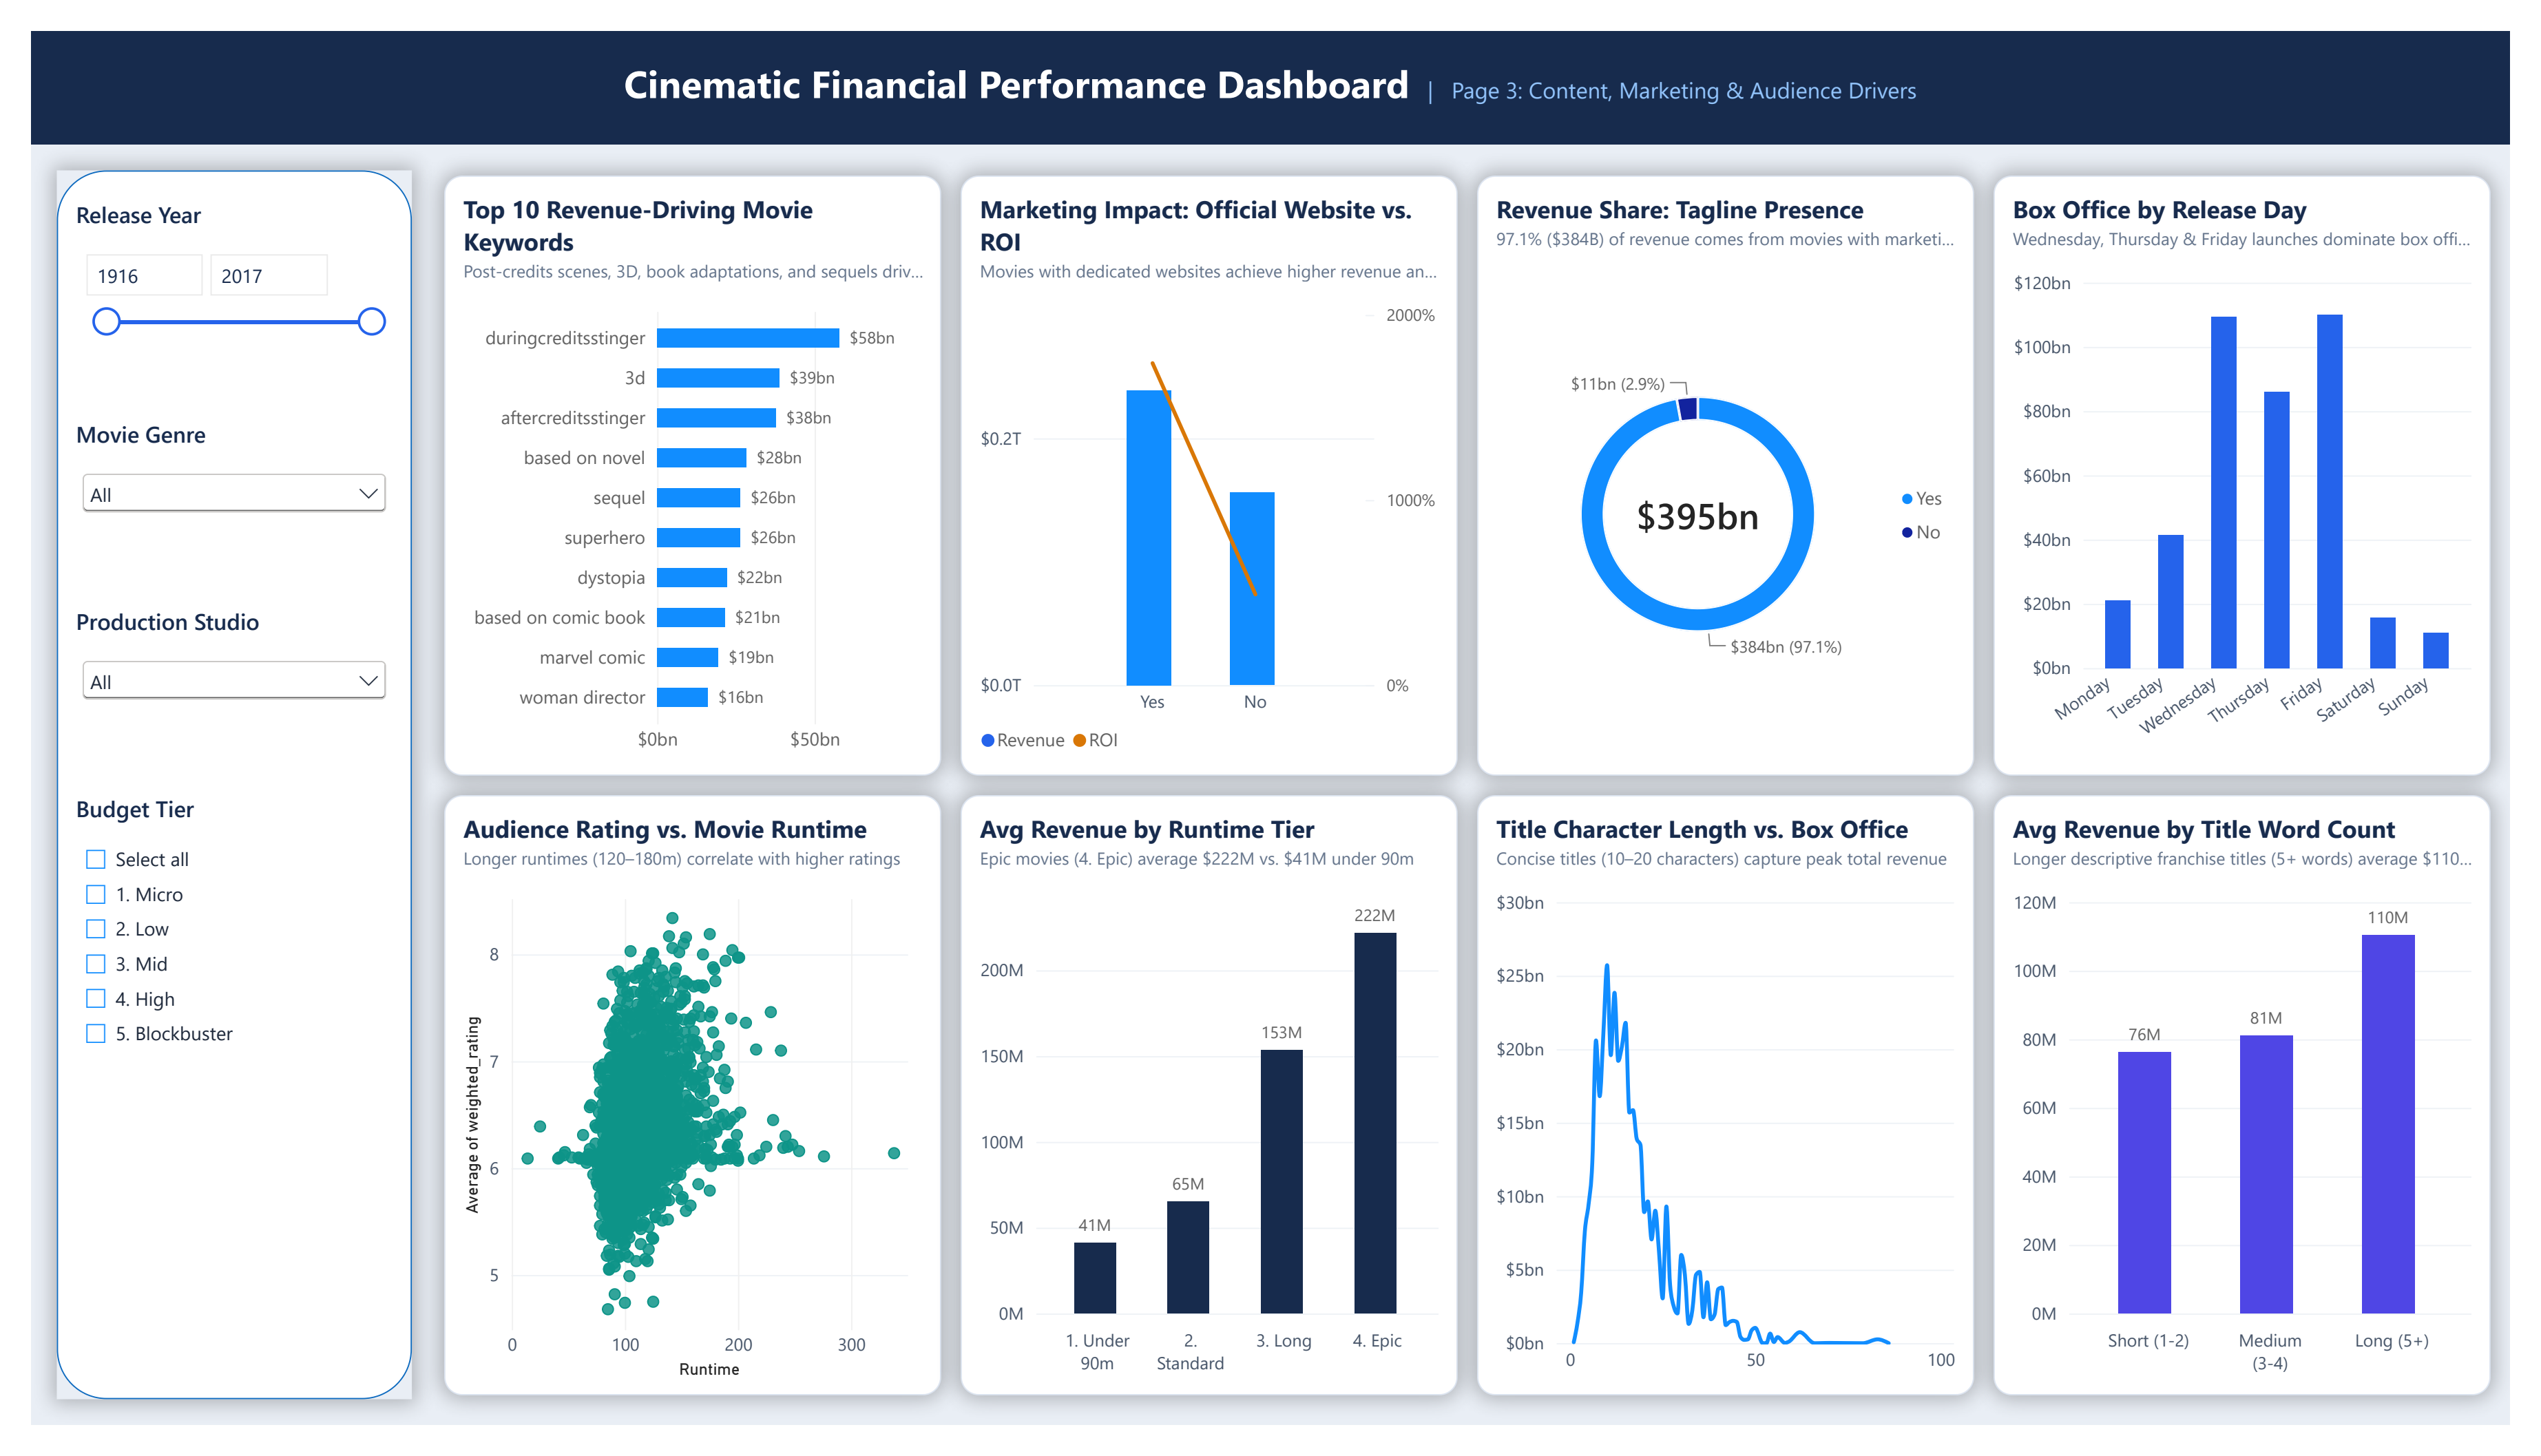

This screenshot's page, from the dashboard's own definition file:
{"tool":"powerbi","page":{"name":"3. Content & Marketing Drivers","canvas":[1920,1080],"ordinal":2},"visuals":[{"type":"shape","box":[0,0,1920,88],"z":0},{"type":"shape","box":[20,108,275,952],"z":1000},{"type":"textbox","box":[20,6,1880,80],"z":2000},{"type":"clusteredBarChart","title":"Top 10 Revenue-Driving Movie Keywords","fields":{"Category":["movie_keywords.keyword_name"],"Y":["_Measures.Total Revenue"]},"box":[320,112,385,465],"z":3000},{"type":"lineClusteredColumnComboChart","title":"Marketing Impact: Official Website vs. ROI","fields":{"Category":["clean_movies.Official Website"],"Y":["_Measures.Total Revenue"],"Y2":["_Measures.Avg ROI"]},"box":[720,112,385,465],"z":4000},{"type":"donutChart","title":"Revenue Share: Tagline Presence","fields":{"Category":["clean_movies.Has Tagline"],"Y":["_Measures.Total Revenue"]},"box":[1120,112,385,465],"z":5000},{"type":"clusteredColumnChart","title":"Box Office by Release Day","fields":{"Category":["clean_movies.Release Day"],"Y":["_Measures.Total Revenue"]},"box":[1520,112,385,465],"z":6000},{"type":"scatterChart","title":"Audience Rating vs. Movie Runtime","fields":{"Category":["clean_movies.title"],"X":["Sum(clean_movies.runtime)"],"Y":["Avg(clean_movies.weighted_rating)"]},"box":[320,592,385,465],"z":7000},{"type":"clusteredColumnChart","title":"Avg Revenue by Runtime Tier","fields":{"Category":["clean_movies.Runtime Tier"],"Y":["_Measures.Avg Revenue"]},"box":[720,592,385,465],"z":8000},{"type":"lineChart","title":"Title Character Length vs. Box Office","fields":{"Category":["clean_movies.Title Length"],"Y":["_Measures.Total Revenue"]},"box":[1120,592,385,465],"z":9000},{"type":"clusteredColumnChart","title":"Avg Revenue by Title Word Count","fields":{"Category":["clean_movies.Title Category"],"Y":["_Measures.Avg Revenue"]},"box":[1520,592,385,465],"z":10000},{"type":"slicer","title":"Budget Tier","fields":{"Values":["clean_movies.Budget Tier"]},"box":[35,590,245,290],"z":11000},{"type":"slicer","title":"Production Studio","fields":{"Values":["movie_companies.company_name"]},"box":[35,445,245,120],"z":12000},{"type":"slicer","title":"Movie Genre","fields":{"Values":["movie_genres.genre_name"]},"box":[35,300,245,120],"z":13000},{"type":"slicer","title":"Release Year","fields":{"Values":["clean_movies.release_year"]},"box":[35,130,245,145],"z":14000}]}

Visuals, with their boxes in screenshot pixels (x1, y1, x2, y2), scaled from the page's 1920x1080 canvas onto the 2541x1456 screenshot:
shape: pyautogui.locateOnScreen(0, 0, 2540, 118)
shape: pyautogui.locateOnScreen(26, 146, 390, 1429)
textbox: pyautogui.locateOnScreen(26, 8, 2515, 116)
"Top 10 Revenue-Driving Movie Keywords" clusteredBarChart: pyautogui.locateOnScreen(423, 151, 933, 778)
"Marketing Impact: Official Website vs. ROI" lineClusteredColumnComboChart: pyautogui.locateOnScreen(953, 151, 1463, 778)
"Revenue Share: Tagline Presence" donutChart: pyautogui.locateOnScreen(1482, 151, 1991, 778)
"Box Office by Release Day" clusteredColumnChart: pyautogui.locateOnScreen(2011, 151, 2521, 778)
"Audience Rating vs. Movie Runtime" scatterChart: pyautogui.locateOnScreen(423, 798, 933, 1425)
"Avg Revenue by Runtime Tier" clusteredColumnChart: pyautogui.locateOnScreen(953, 798, 1463, 1425)
"Title Character Length vs. Box Office" lineChart: pyautogui.locateOnScreen(1482, 798, 1991, 1425)
"Avg Revenue by Title Word Count" clusteredColumnChart: pyautogui.locateOnScreen(2011, 798, 2521, 1425)
"Budget Tier" slicer: pyautogui.locateOnScreen(46, 795, 370, 1186)
"Production Studio" slicer: pyautogui.locateOnScreen(46, 600, 370, 761)
"Movie Genre" slicer: pyautogui.locateOnScreen(46, 405, 370, 566)
"Release Year" slicer: pyautogui.locateOnScreen(46, 176, 370, 371)
